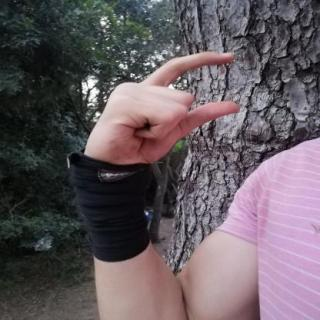DELL: (62, 43, 252, 177)
